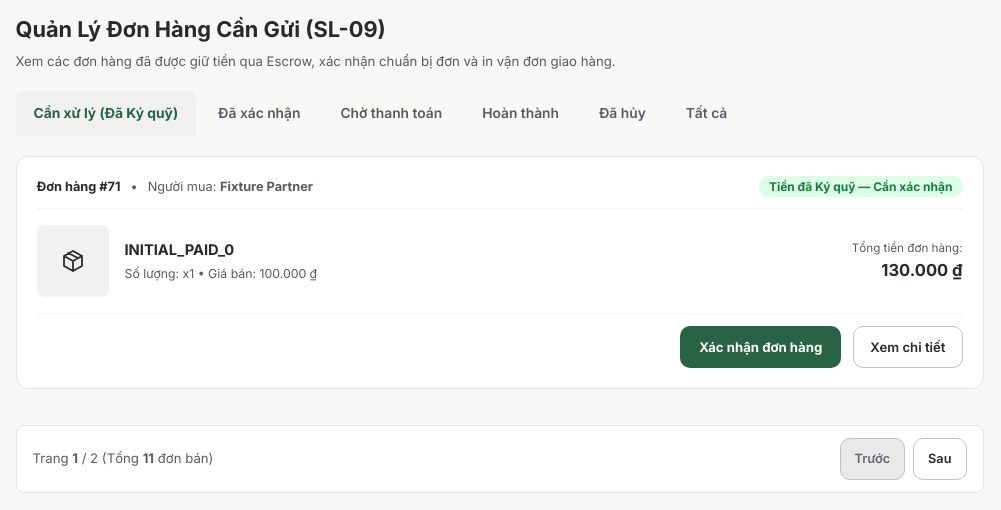
Avatar and order regressions › A2: a delayed seller confirmation reloads the current filter/page
The width and height of the screenshot is (1001, 510).
Expected: the heading "INITIAL_PAID_0" is shown, left=124, top=241, right=234, bottom=259
Click the button "Sau".
click(940, 459)  # box left=913, top=438, right=966, bottom=480
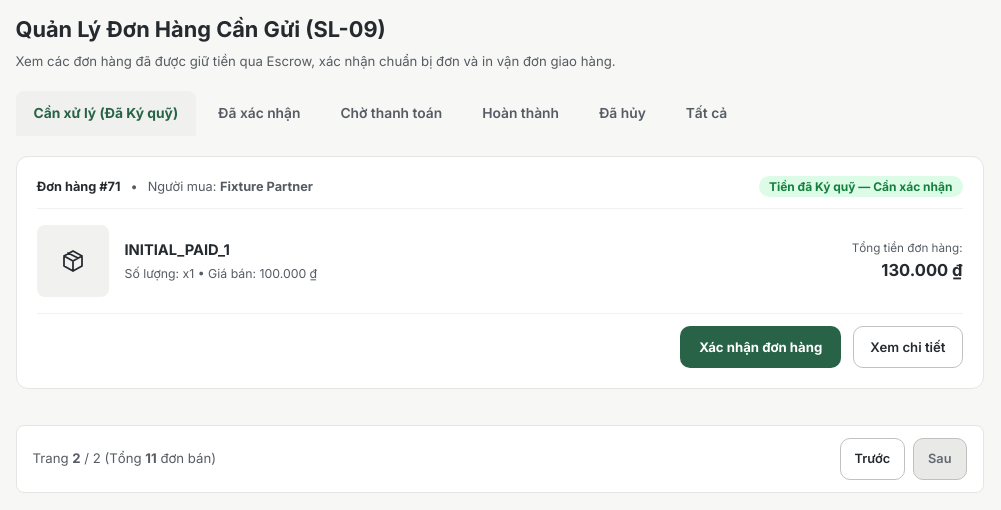
Expected: the heading "INITIAL_PAID_1" is shown, left=124, top=241, right=230, bottom=259
Click the button "Xác nhận đơn hàng".
click(761, 347)  # box left=680, top=326, right=841, bottom=368
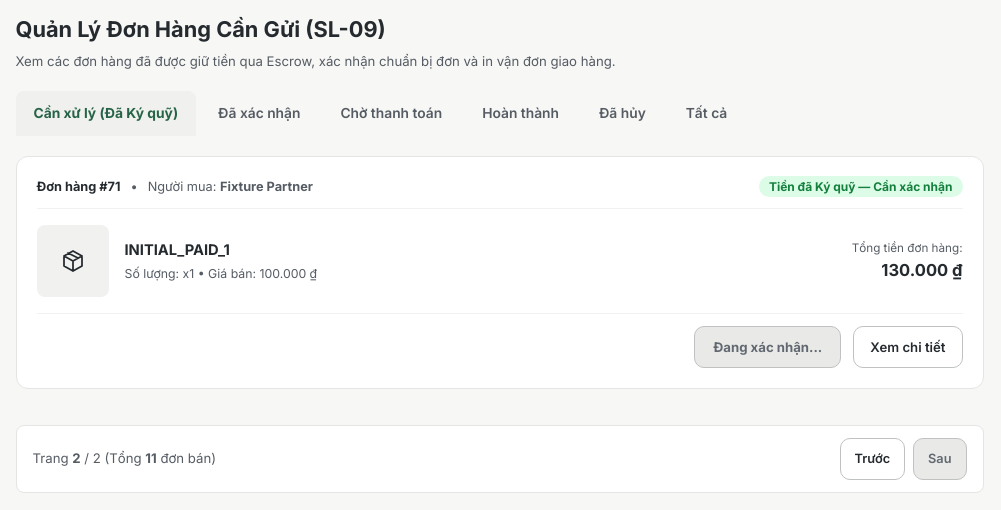
Click the button "Tất cả".
click(706, 115)  # box left=668, top=91, right=745, bottom=138
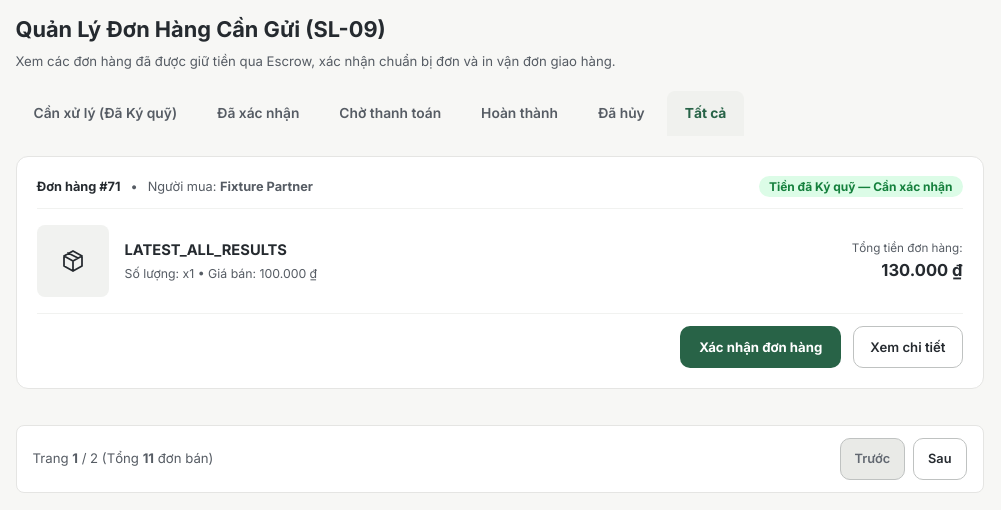
Expected: the heading "LATEST_ALL_RESULTS" is shown, left=124, top=241, right=287, bottom=259
